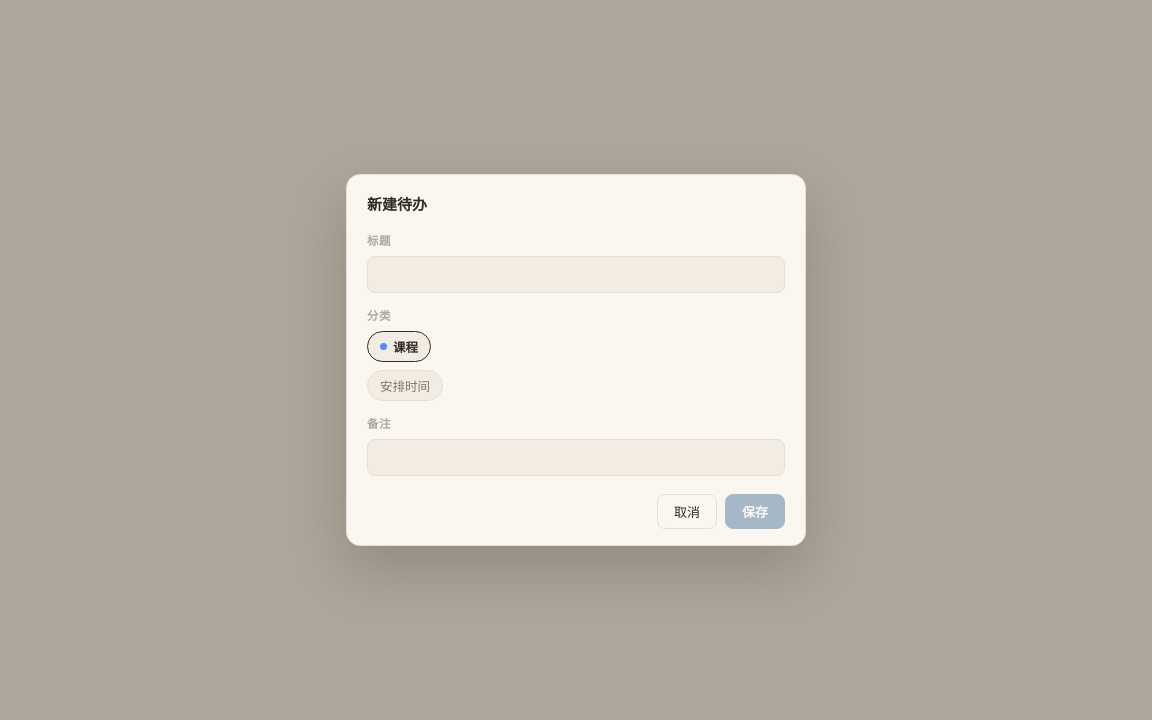
Test: TaskForm › 勾上「安排时间」后出现日期与起止时刻
Click the checkbox labelled "安排时间". click: (405, 386)
box: [367,370,443,401]
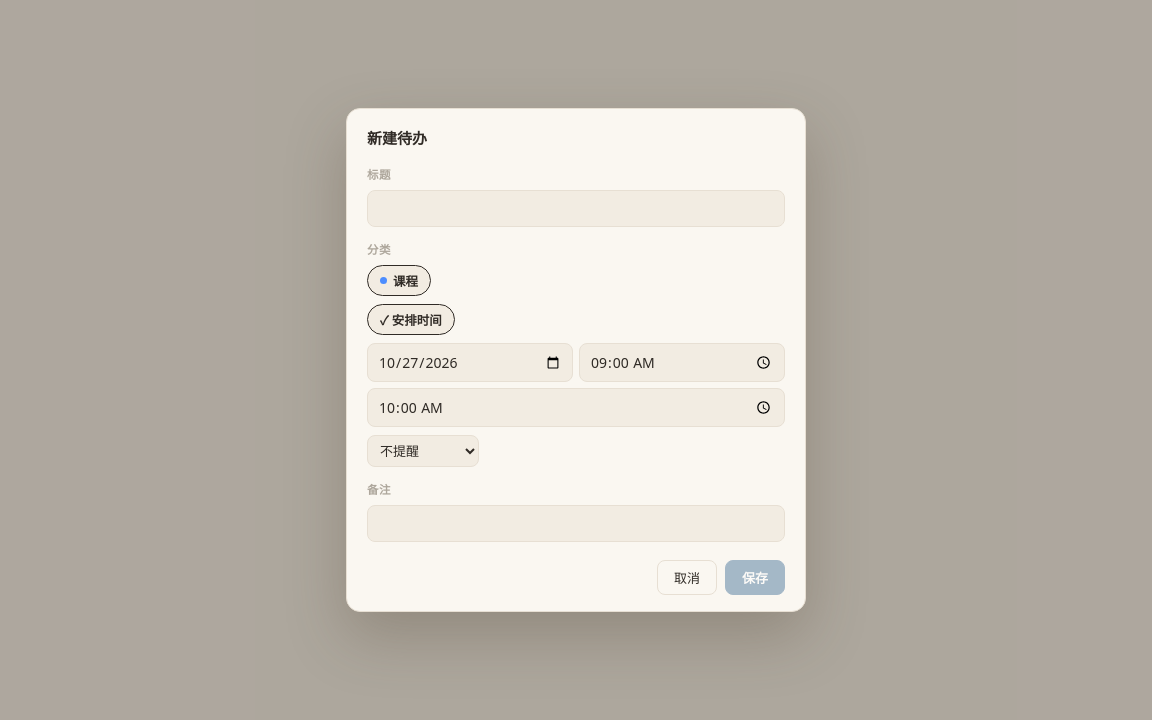
Now the date field named "待办日期" is shown, box [367,343,573,382]
Now the time field named "待办开始时间" is shown, box [579,343,785,382]
Now the time field named "待办结束时间" is shown, box [367,388,785,427]
